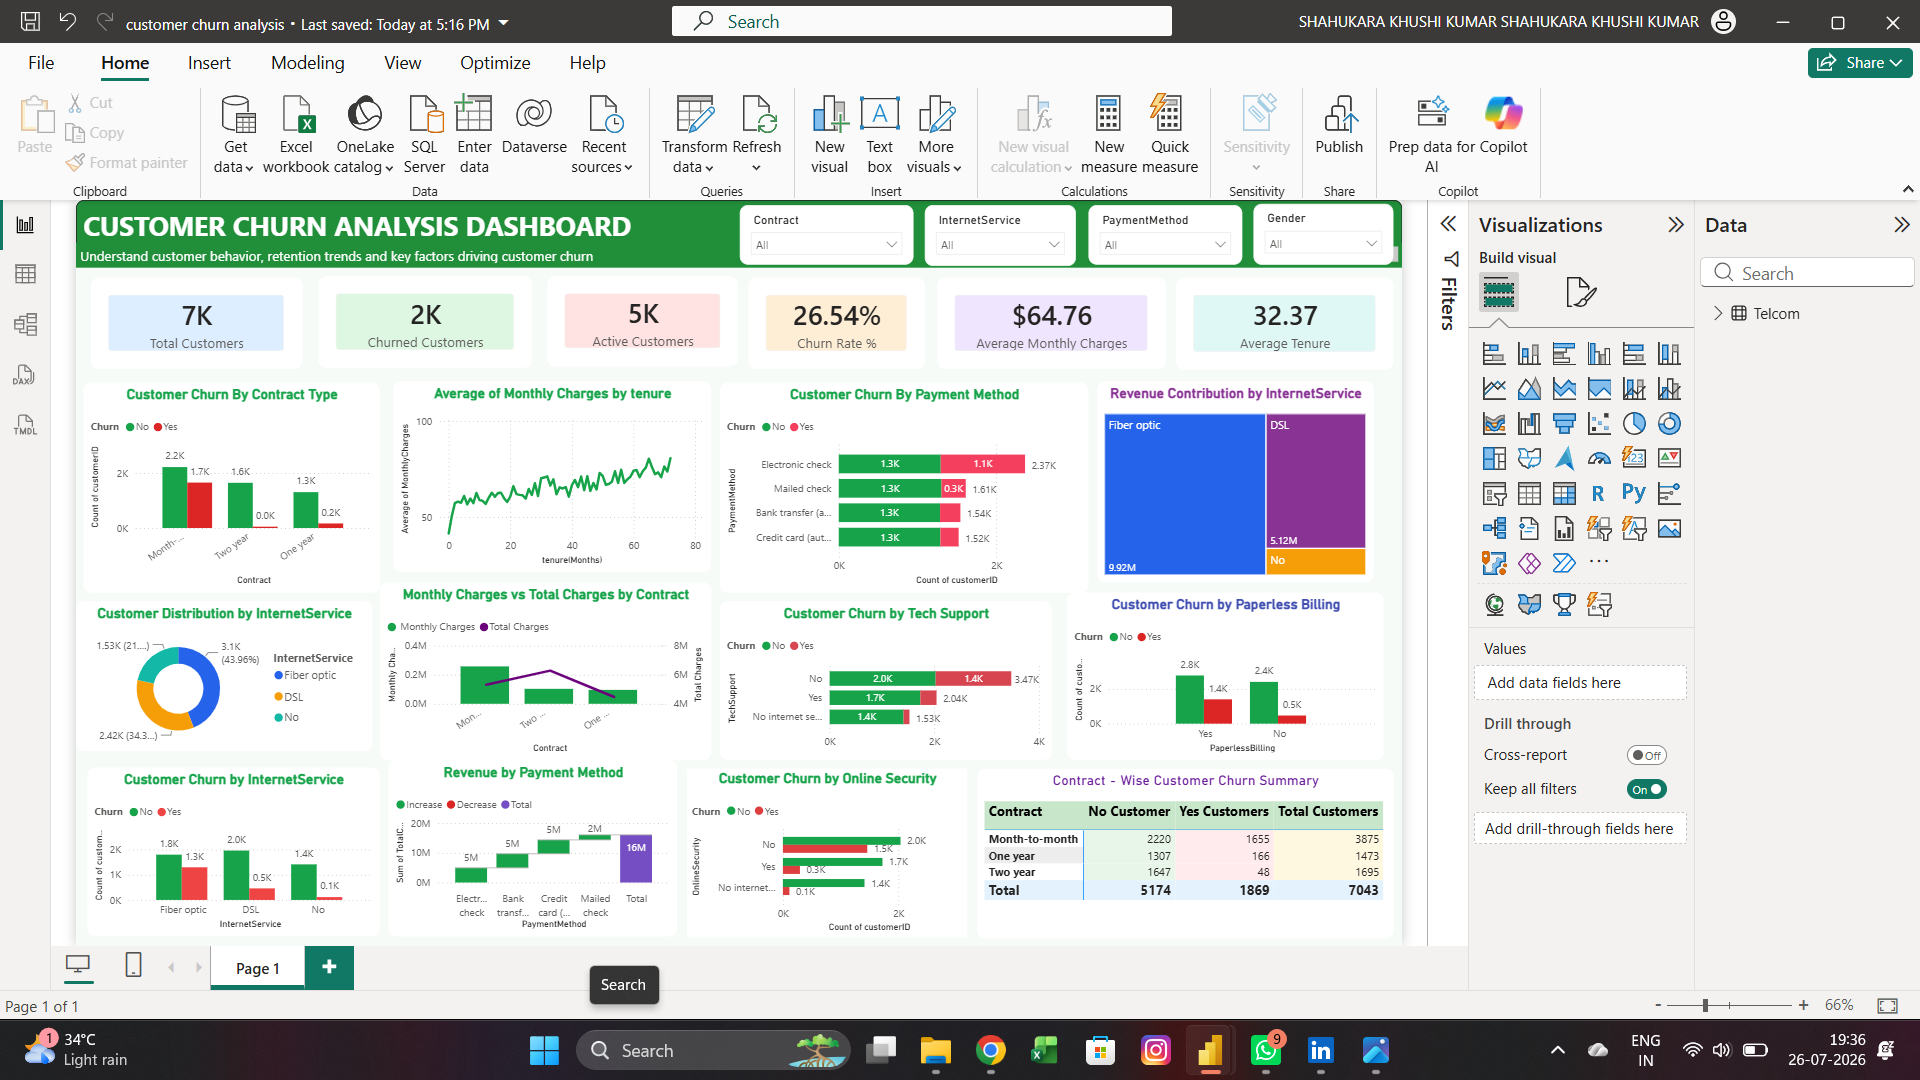

The dashboard page shown, as its layout file describes it:
{"tool":"powerbi","page":{"name":"Page 4","canvas":[1600,900],"ordinal":3},"visuals":[{"type":"textbox","box":[0,0,1600,78.4],"z":0},{"type":"textbox","box":[0,51.3,1600,30.2],"z":1},{"type":"slicer","fields":{"Values":["Telcom.Contract"]},"box":[799.3,9,209.6,72.4],"z":2},{"type":"slicer","fields":{"Values":["Telcom.InternetService"]},"box":[1024,6,182.5,73.9],"z":3},{"type":"slicer","fields":{"Values":["Telcom.PaymentMethod"]},"box":[1221.5,6,185.5,72.4],"z":4},{"type":"slicer","fields":{"Values":["Telcom.gender"]},"box":[1420.6,4.5,168.9,73.9],"z":5},{"type":"cardVisual","fields":{"Data":["Telcom.Total Customers"]},"box":[18.1,93.5,253.4,110.1],"z":6},{"type":"cardVisual","fields":{"Data":["Telcom.Churned Customers"]},"box":[292.6,92,257.9,110.1],"z":7},{"type":"cardVisual","fields":{"Data":["Telcom.Active Customers"]},"box":[568.5,92,230.7,108.6],"z":8},{"type":"cardVisual","fields":{"Data":["Telcom.Churn Rate %"]},"box":[811.3,93.5,212.6,110.1],"z":9},{"type":"cardVisual","fields":{"Data":["Telcom.Average Monthly Charges"]},"box":[1039,93.5,276,110.1],"z":10},{"type":"cardVisual","fields":{"Data":["Telcom.Average Tenure"]},"box":[1339.1,92,260.9,111.6],"z":11},{"type":"barChart","title":"Customer Churn By Payment Method","fields":{"Category":["Telcom.PaymentMethod"],"Series":["Telcom.Churn"],"Y":["CountNonNull(Telcom.customerID)"]},"box":[776.6,218.7,396.6,230.7],"z":13},{"type":"donutChart","title":"Customer Distribution by InternetService","fields":{"Category":["Telcom.InternetService"],"Y":["CountNonNull(Telcom.customerID)"]},"box":[13.6,463,357.4,181],"z":14},{"type":"lineChart","fields":{"Category":["Telcom.tenure"],"Y":["Avg(Telcom.MonthlyCharges)"]},"box":[396.6,218.7,358.9,230.7],"z":15},{"type":"treemap","title":"Revenue Contribution by InternetService","fields":{"Group":["Telcom.InternetService"],"Values":["Sum(Telcom.TotalCharges)"]},"box":[1204.9,218.7,348.4,230.7],"z":16},{"type":"lineClusteredColumnComboChart","title":"Monthly Charges vs Total Charges by Contract","fields":{"Category":["Telcom.Contract"],"Y":["Sum(Telcom.MonthlyCharges)"],"Y2":["Sum(Telcom.TotalCharges)"]},"box":[396.6,463,358.9,181],"z":17},{"type":"barChart","title":"Customer Churn by Tech Support","fields":{"Category":["Telcom.TechSupport"],"Series":["Telcom.Churn"],"Y":["CountNonNull(Telcom.customerID)"]},"box":[776.6,463,401.1,191.5],"z":18},{"type":"columnChart","title":"Customer Churn by Paperless Billing ","fields":{"Category":["Telcom.PaperlessBilling"],"Series":["Telcom.Churn"],"Y":["CountNonNull(Telcom.customerID)"]},"box":[1206.4,458.4,371,185.5],"z":19},{"type":"clusteredColumnChart","title":"Customer Churn by InternetService ","fields":{"Category":["Telcom.InternetService"],"Series":["Telcom.Churn"],"Y":["CountNonNull(Telcom.customerID)"]},"box":[13.6,684.7,352.9,203.6],"z":20},{"type":"waterfallChart","title":"Revenue by Payment Method","fields":{"Category":["Telcom.PaymentMethod"],"Y":["Sum(Telcom.TotalCharges)"]},"box":[395.1,686.2,346.9,203.6],"z":21},{"type":"pivotTable","title":"Contract - Wise Customer Churn Summary","fields":{"Rows":["Telcom.Contract"],"Values":["Telcom.No Customer","Telcom.Yes Customers","Telcom.Total Customers"]},"box":[1097.9,684.7,502.2,205.1],"z":22},{"type":"clusteredBarChart","title":"Customer Churn by Online Security ","fields":{"Category":["Telcom.OnlineSecurity"],"Series":["Telcom.Churn"],"Y":["CountNonNull(Telcom.customerID)"]},"box":[755.5,686.2,337.8,203.6],"z":23},{"type":"clusteredColumnChart","title":"Customer Churn By Contract Type","fields":{"Category":["Telcom.Contract"],"Series":["Telcom.Churn"],"Y":["CountNonNull(Telcom.customerID)"]},"box":[13.6,220.2,357.4,229.2],"z":24}]}

Visuals, with their boxes on the page's 1600x900 design canvas (x1, y1, x2, y2). These are canvas units, not pixel positions in the 1920x1080 screenshot, which may show the page scaled, cropped or inside an application window:
textbox: bbox=(0, 0, 1600, 78)
textbox: bbox=(0, 51, 1600, 82)
slicer - Telcom.Contract: bbox=(799, 9, 1009, 81)
slicer - Telcom.InternetService: bbox=(1024, 6, 1206, 80)
slicer - Telcom.PaymentMethod: bbox=(1222, 6, 1407, 78)
slicer - Telcom.gender: bbox=(1421, 4, 1590, 78)
cardVisual - Telcom.Total Customers: bbox=(18, 94, 272, 204)
cardVisual - Telcom.Churned Customers: bbox=(293, 92, 550, 202)
cardVisual - Telcom.Active Customers: bbox=(568, 92, 799, 201)
cardVisual - Telcom.Churn Rate %: bbox=(811, 94, 1024, 204)
cardVisual - Telcom.Average Monthly Charges: bbox=(1039, 94, 1315, 204)
cardVisual - Telcom.Average Tenure: bbox=(1339, 92, 1600, 204)
"Customer Churn By Payment Method" barChart: bbox=(777, 219, 1173, 449)
"Customer Distribution by InternetService" donutChart: bbox=(14, 463, 371, 644)
lineChart - Telcom.tenure x Avg(Telcom.MonthlyCharges): bbox=(397, 219, 756, 449)
"Revenue Contribution by InternetService" treemap: bbox=(1205, 219, 1553, 449)
"Monthly Charges vs Total Charges by Contract" lineClusteredColumnComboChart: bbox=(397, 463, 756, 644)
"Customer Churn by Tech Support" barChart: bbox=(777, 463, 1178, 654)
"Customer Churn by Paperless Billing " columnChart: bbox=(1206, 458, 1577, 644)
"Customer Churn by InternetService " clusteredColumnChart: bbox=(14, 685, 366, 888)
"Revenue by Payment Method" waterfallChart: bbox=(395, 686, 742, 890)
"Contract - Wise Customer Churn Summary" pivotTable: bbox=(1098, 685, 1600, 890)
"Customer Churn by Online Security " clusteredBarChart: bbox=(756, 686, 1093, 890)
"Customer Churn By Contract Type" clusteredColumnChart: bbox=(14, 220, 371, 449)
